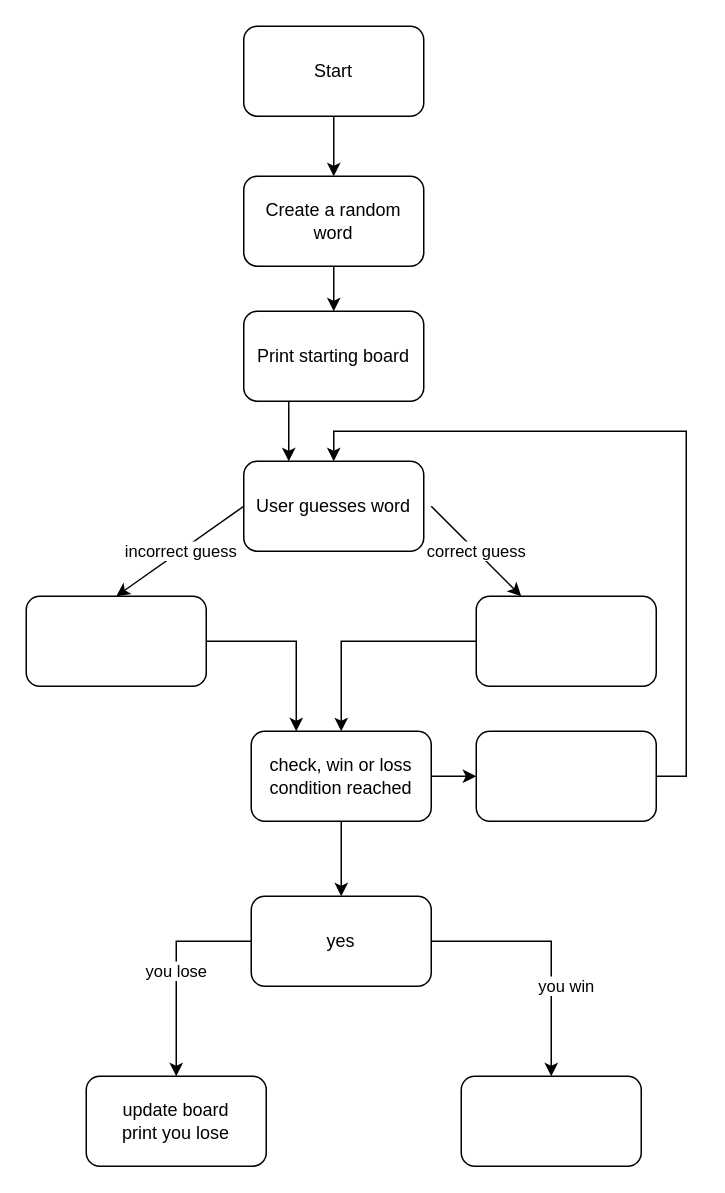
Image size: 725x1193. Some labels were removed from this diagram. Here are the shapes that lost their labels. From the top down, the centre of each, then its label:
At [115,640]: "print incorrect guess update board".
At [565,640]: "print correct guess update answer".
At [565,775]: "no".
At [550,1120]: "print you win".
